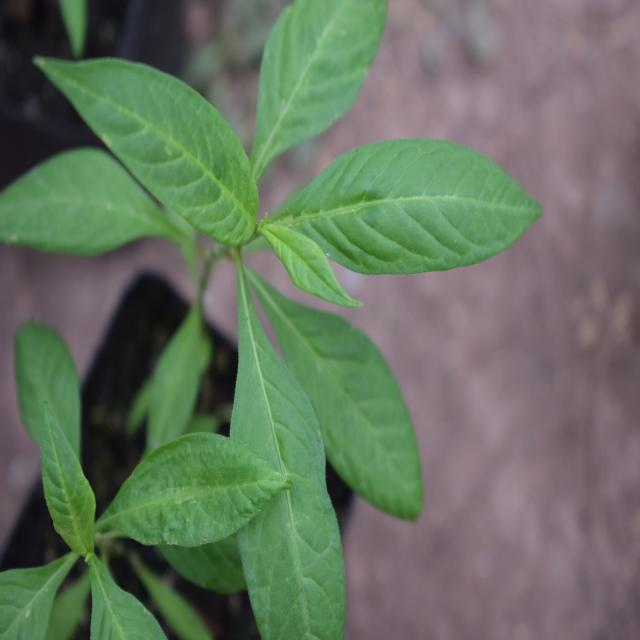white_smart_weed: (96, 3, 446, 590)
